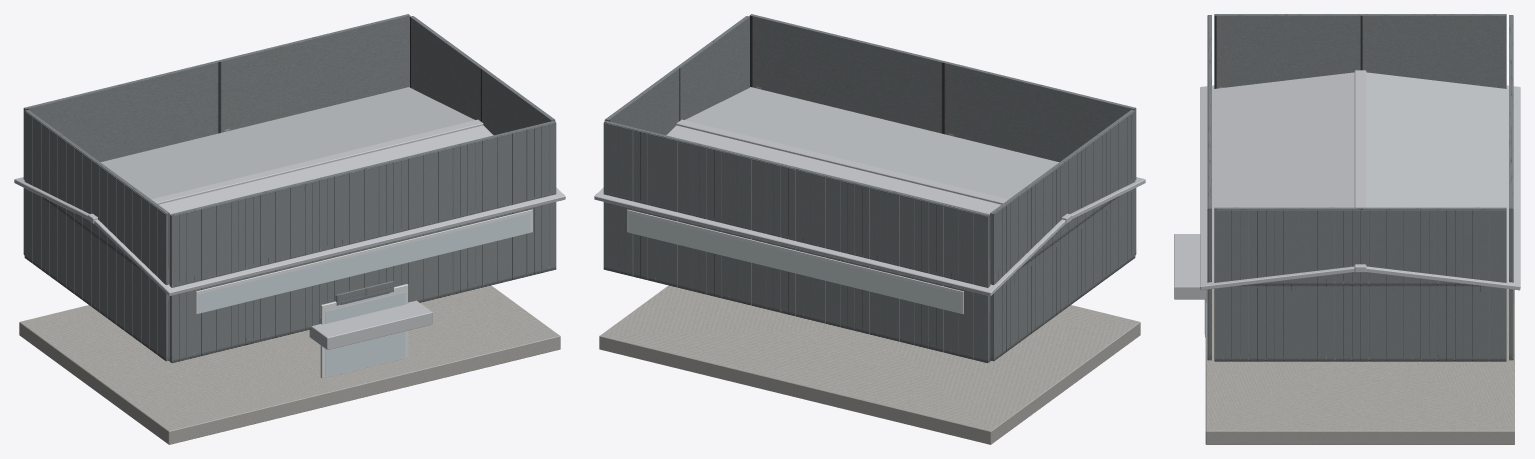
The model's file is japanese-school-and-city-street-gymnasium-shell-5e112e46__30067.glb.
3 renders of one model, left to right at view 1: azimuth 30°, elevation 25°; view 2: azimuth 150°, elevation 25°; view 3: azimuth 270°, elevation 25°, orthographic. The views are drawn at different scales.
Visible parts, largest first — view 1: gymnasium-shell; view 2: gymnasium-shell; view 3: gymnasium-shell.
Boxes of the visible parts, <box> form: gymnasium-shell: <box>14,14,565,444</box>; gymnasium-shell: <box>594,14,1145,444</box>; gymnasium-shell: <box>1174,14,1520,444</box>.
Bounding box in the file's own units: 16.6 × 9.05 × 12.09.
6 materials, 2 textured.
